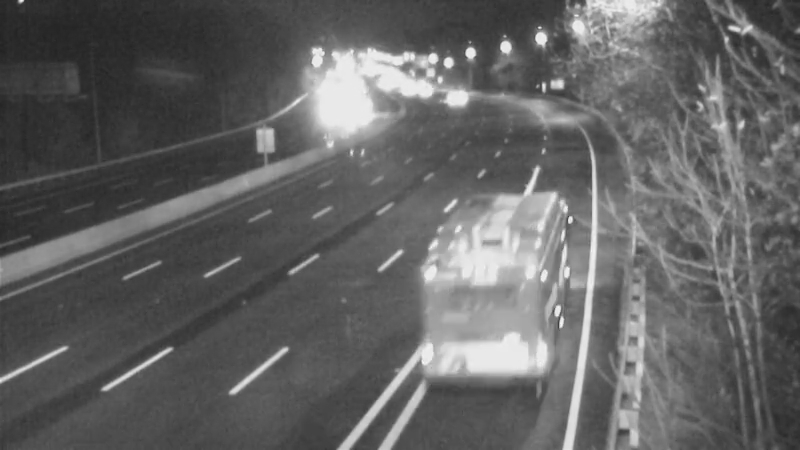vehicle: (422, 254, 532, 364), (429, 73, 479, 123), (309, 87, 359, 137)
